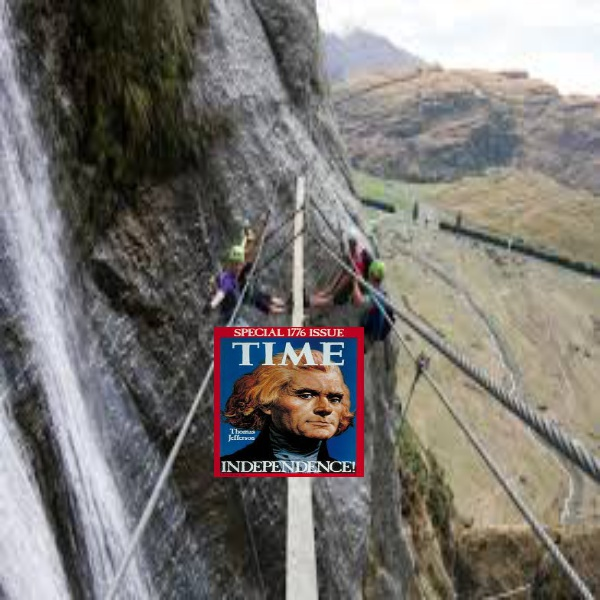time_cover: (203, 313, 375, 480)
